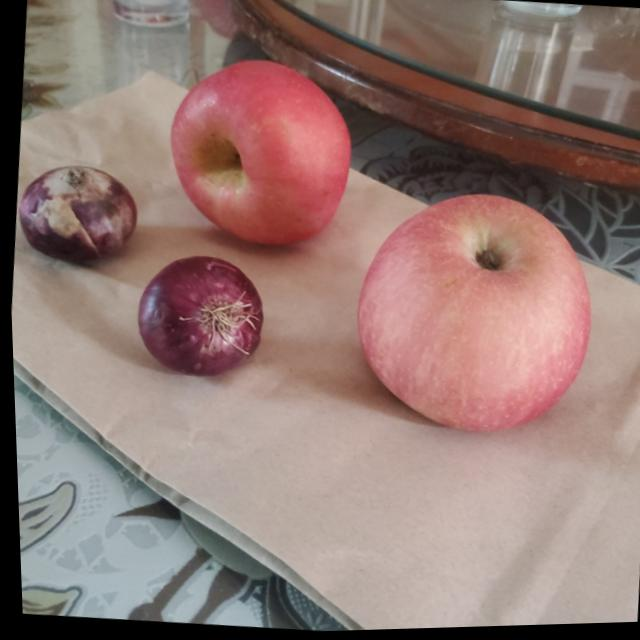apple: (339, 178, 601, 441), (162, 50, 370, 255)
onion: (127, 250, 264, 382), (12, 159, 142, 277)
